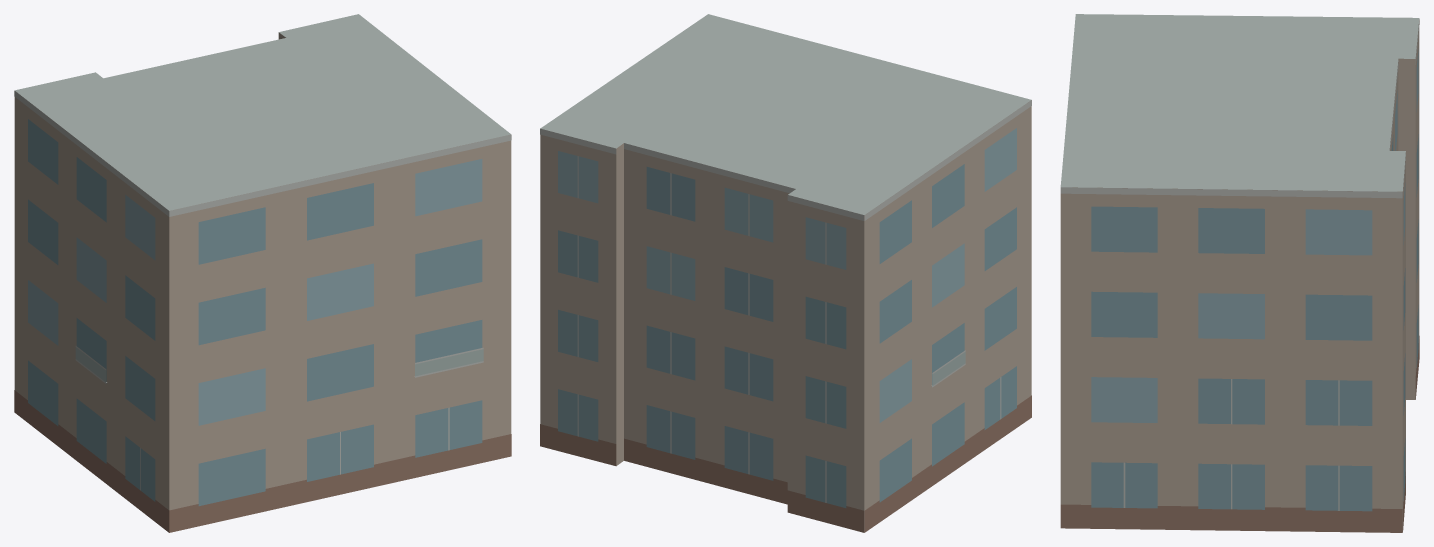
Rendered from survey-upis-32653884.glb.
3 renders of one model, left to right at view 1: azimuth 30°, elevation 25°; view 2: azimuth 150°, elevation 25°; view 3: azimuth 270°, elevation 25°, orthographic. The views are drawn at different scales.
Visible parts, largest first — view 1: survey-upis-32653884.tmp; view 2: survey-upis-32653884.tmp; view 3: survey-upis-32653884.tmp.
Boxes of the visible parts, x1=… form: survey-upis-32653884.tmp: x1=14, y1=14, x2=511, y2=532; survey-upis-32653884.tmp: x1=540, y1=14, x2=1031, y2=532; survey-upis-32653884.tmp: x1=1060, y1=14, x2=1419, y2=532.
Bounding box in the file's own units: 14.43 × 12.9 × 12.31.
